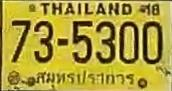0: (142, 20, 162, 63), (119, 20, 138, 63)
3: (95, 20, 115, 63), (33, 20, 52, 62)
5: (72, 20, 92, 62)
7: (11, 18, 30, 62)
SPK: (34, 67, 137, 91)
